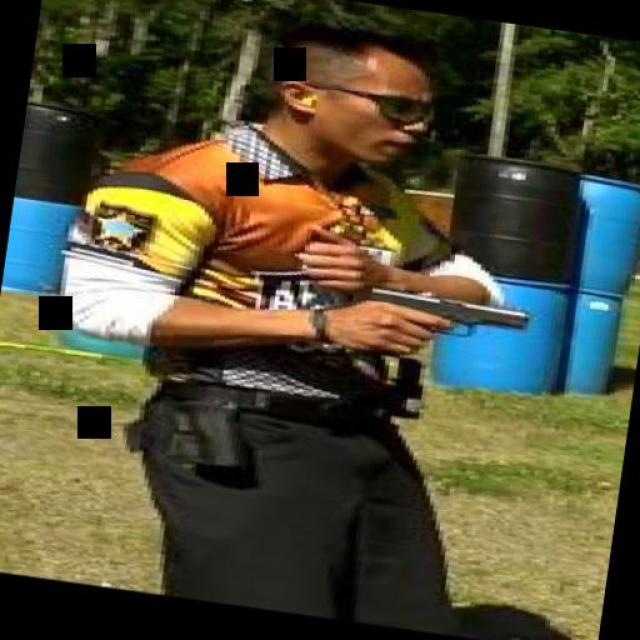gun: (346, 278, 535, 374)
